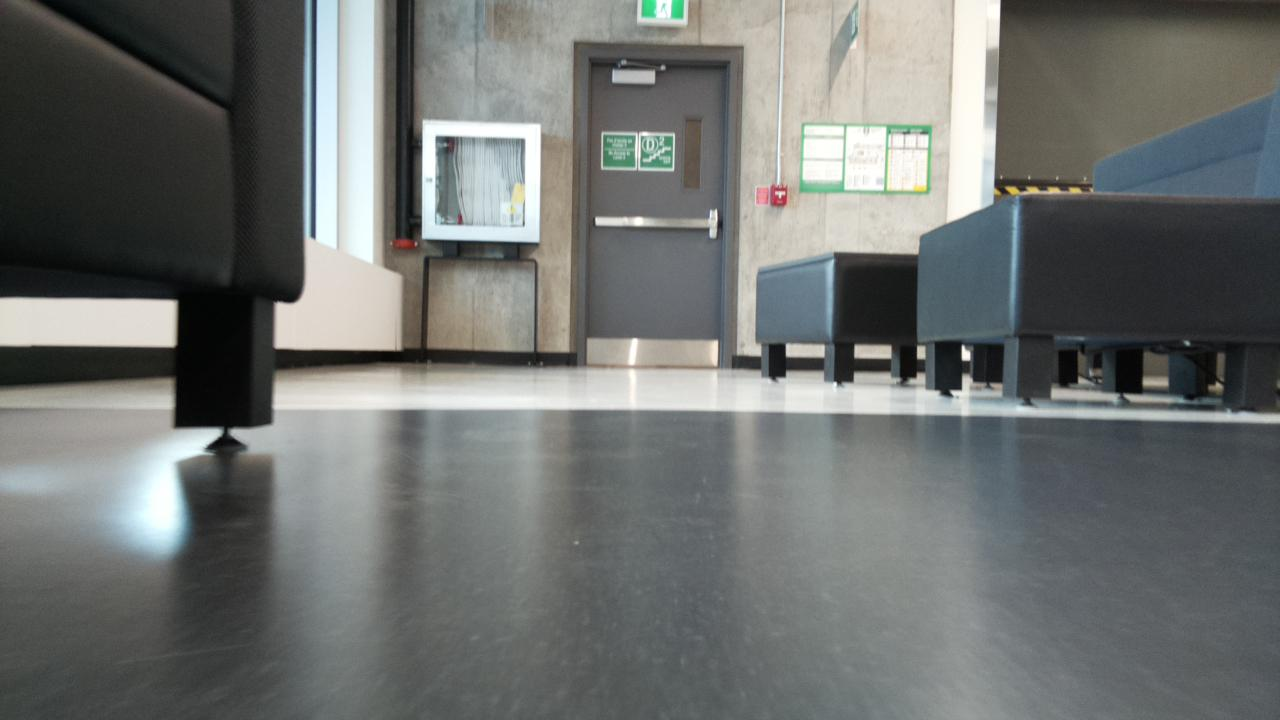door: (586, 60, 725, 366)
sign: (800, 122, 930, 194), (637, 0, 688, 26), (601, 133, 636, 170), (639, 133, 673, 171)
